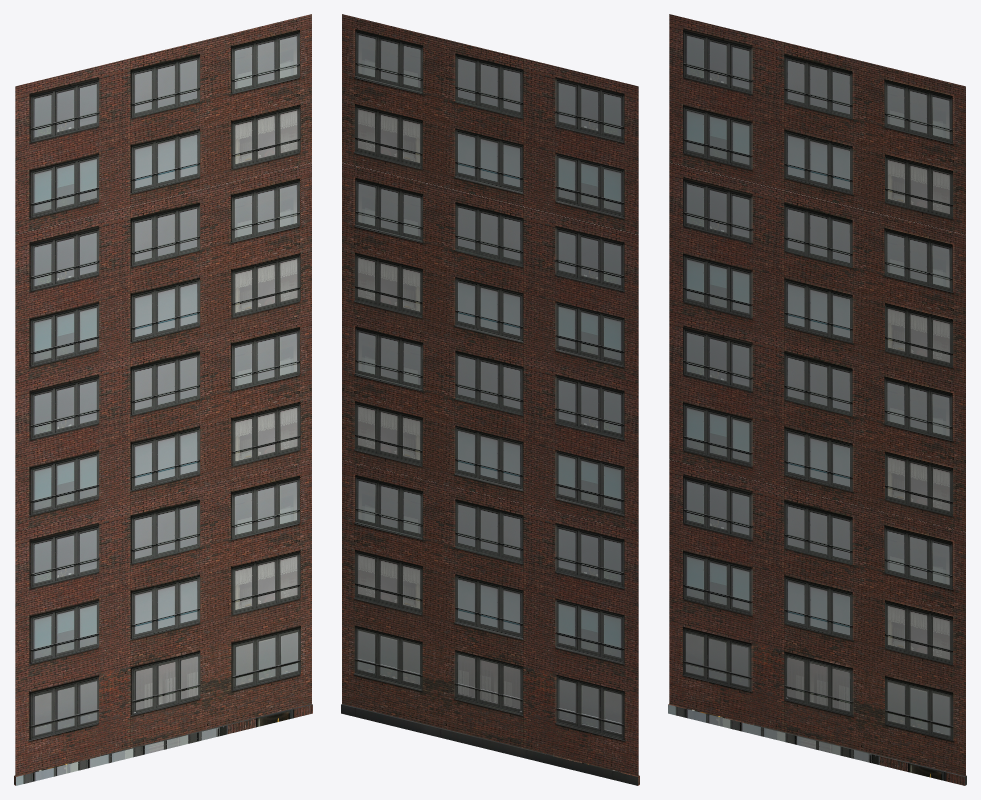
Rendered from predio4.fbx.
The picture shows the model from 3 angles, left to right: view 1: azimuth 30°, elevation 25°; view 2: azimuth 150°, elevation 25°; view 3: azimuth 330°, elevation 25°; orthographic projection.
Parts seen in each view (by area): view 1: TexturesCom_HighRiseResidential0022_2_M.006; view 2: TexturesCom_HighRiseResidential0022_2_M.006; view 3: TexturesCom_HighRiseResidential0022_2_M.006.
Boxes of the visible parts, x1,y1,x2,y2 form: TexturesCom_HighRiseResidential0022_2_M.006: (14, 14, 312, 785); TexturesCom_HighRiseResidential0022_2_M.006: (341, 14, 639, 785); TexturesCom_HighRiseResidential0022_2_M.006: (668, 14, 966, 785).
Size of the model in its own units: 1956 by 4398 by 25.24.
